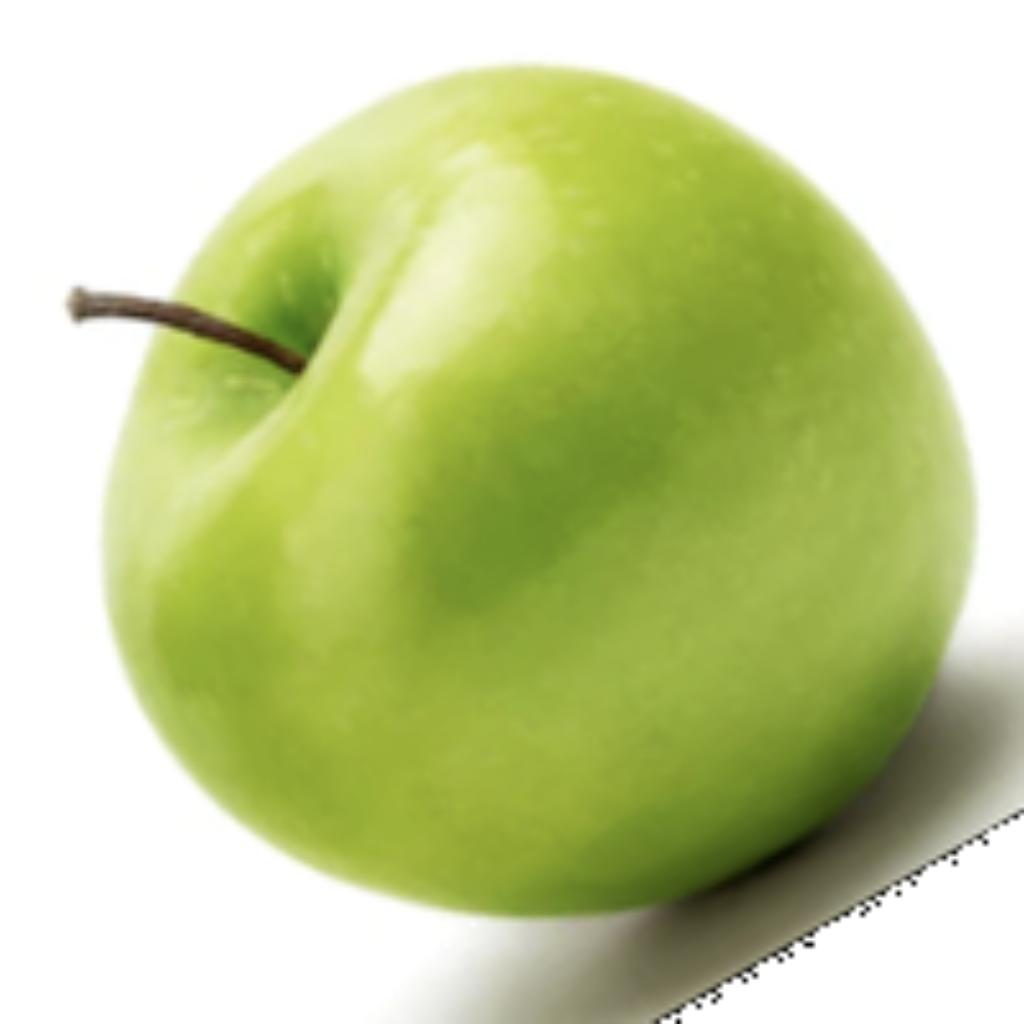apple: (56, 56, 1019, 1019)
